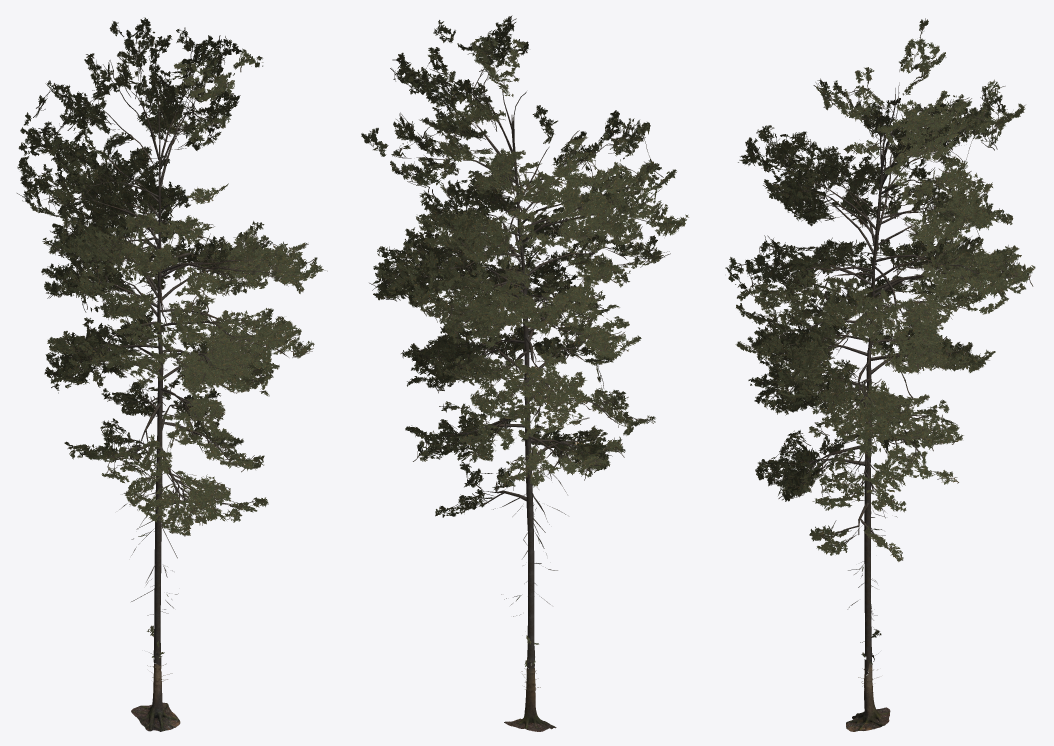
The picture shows the model from 3 angles, left to right: view 1: azimuth 30°, elevation 25°; view 2: azimuth 150°, elevation 25°; view 3: azimuth 270°, elevation 25°; orthographic projection. The views are drawn at different scales.
Visible parts, largest first — view 1: pine_tree_01__a_lod0; view 2: pine_tree_01__a_lod0; view 3: pine_tree_01__a_lod0.
Part boxes in pixels (x1,y1,x2,y2): pine_tree_01__a_lod0: [17, 17, 327, 731]; pine_tree_01__a_lod0: [361, 15, 688, 731]; pine_tree_01__a_lod0: [725, 18, 1035, 731].
Bounding box in the file's own units: 7.66 × 20.42 × 8.43.
3 materials, 3 textured.
